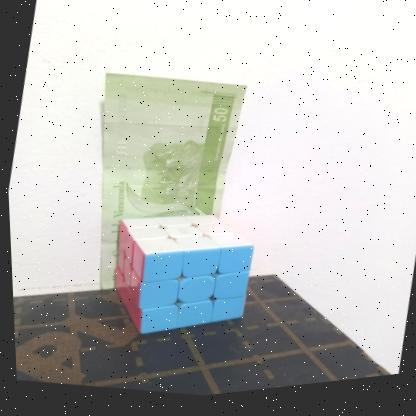fifty-back-vef: (62, 62, 254, 318)
